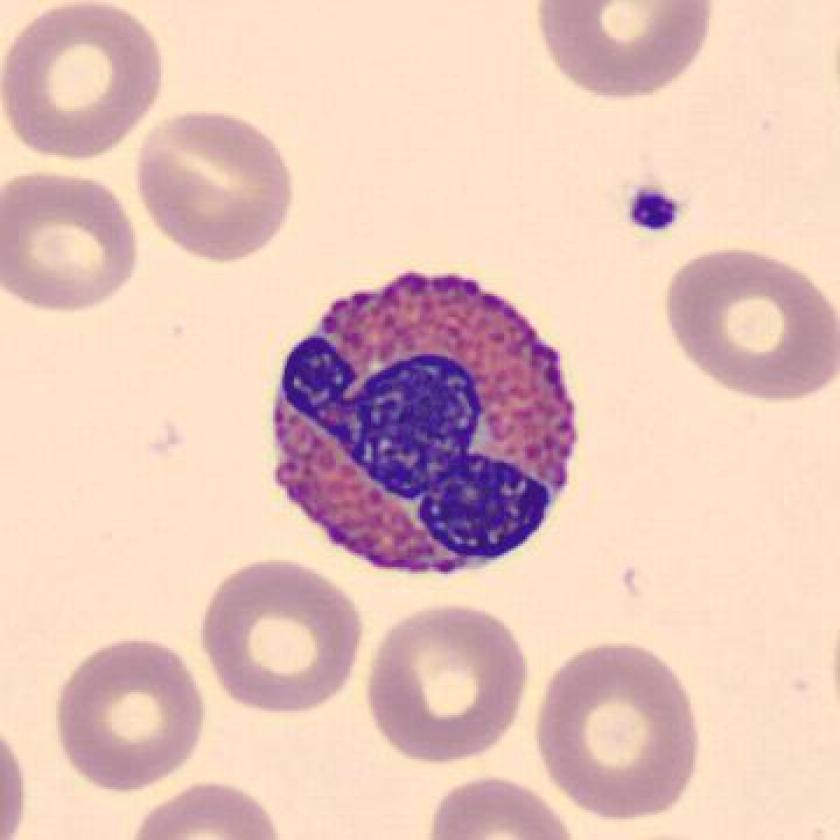eosinophil: (253, 258, 598, 589)
